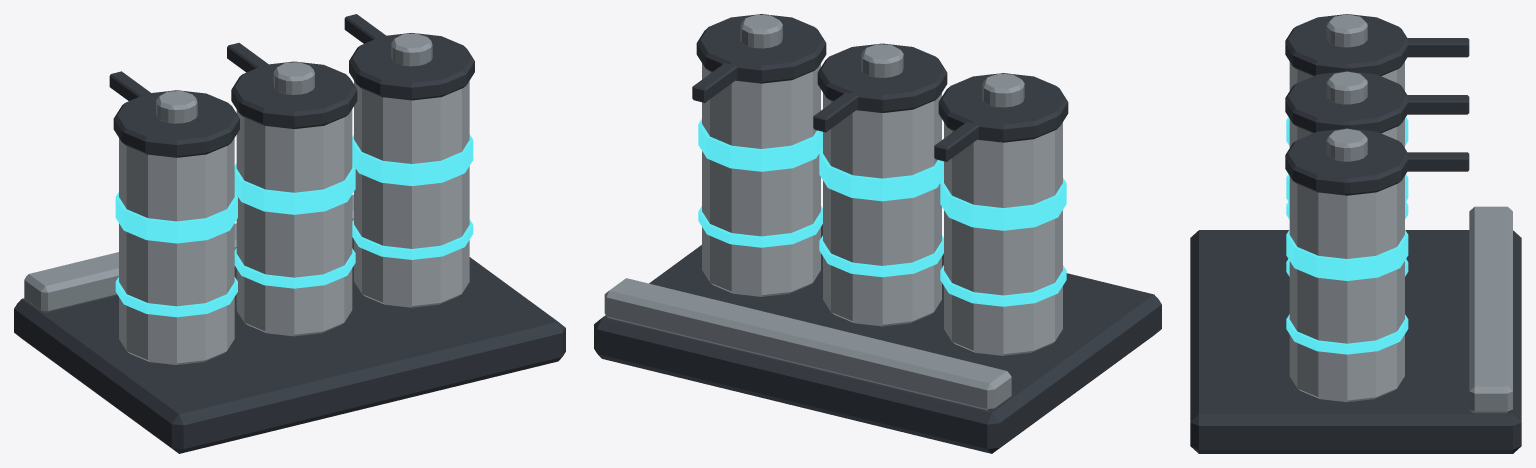
The model's file is exo-battery.glb.
3 views of the same model, side by side, from view 1: azimuth 30°, elevation 25°; view 2: azimuth 150°, elevation 25°; view 3: azimuth 270°, elevation 25° (orthographic). The views are drawn at different scales.
Parts seen in each view (by area): view 1: body, charge; view 2: body, charge; view 3: body, charge.
Part boxes in pixels (x1,y1,x2,y2): body: (14,14,565,453); charge: (115,134,473,317); body: (594,14,1161,453); charge: (698,119,1066,306); body: (1190,14,1521,453); charge: (1286,117,1408,354).
Size of the model in its own units: 5.2 by 3.58 by 3.8.
